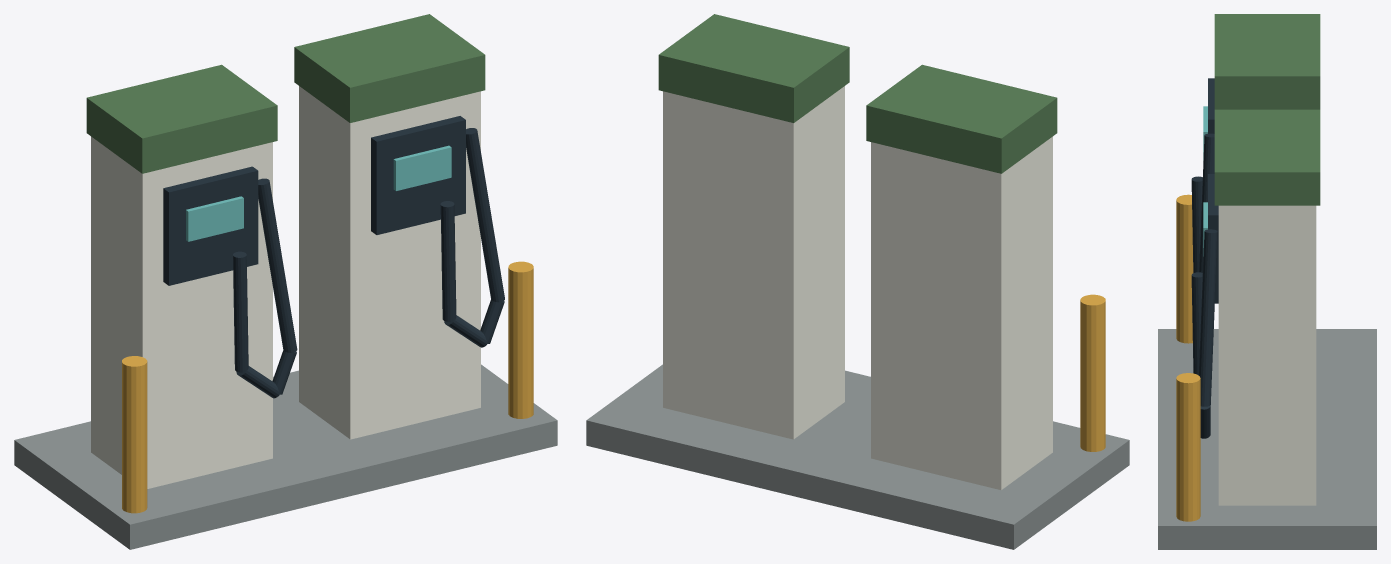
Rendered from scendance-plan-ev-charge-point-dual.glb.
3 views of the same model, side by side, from view 1: azimuth 30°, elevation 25°; view 2: azimuth 150°, elevation 25°; view 3: azimuth 270°, elevation 25° (orthographic). The views are drawn at different scales.
Bounding box in the file's own units: 1.77 × 1.5 × 0.83.
